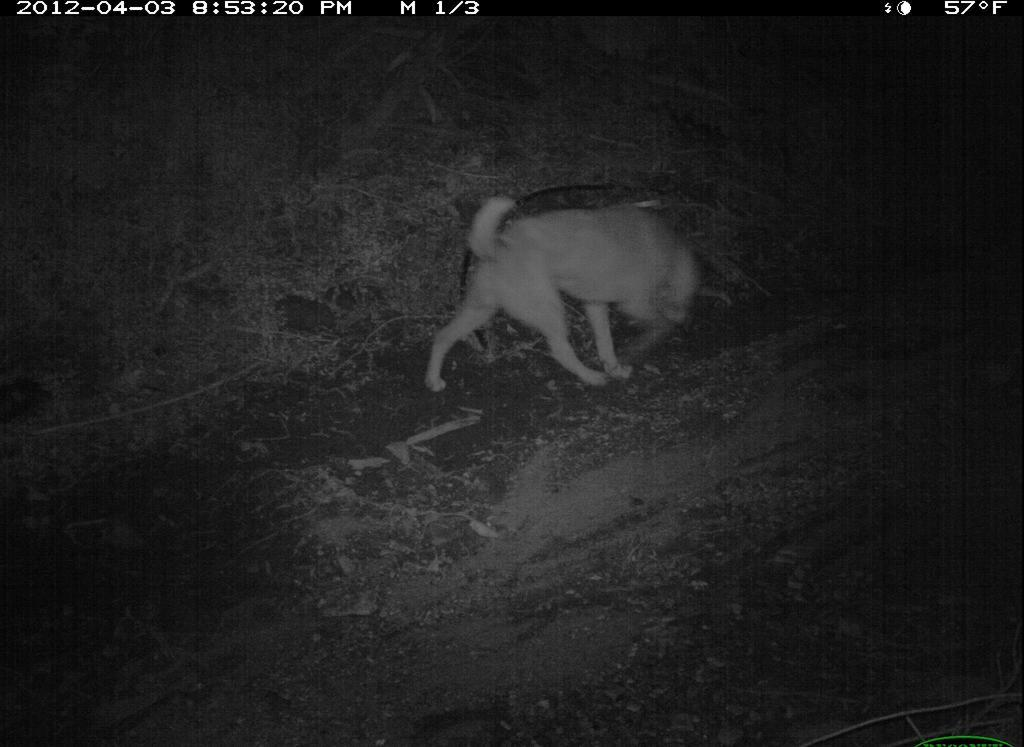dog: (410, 178, 715, 402)
